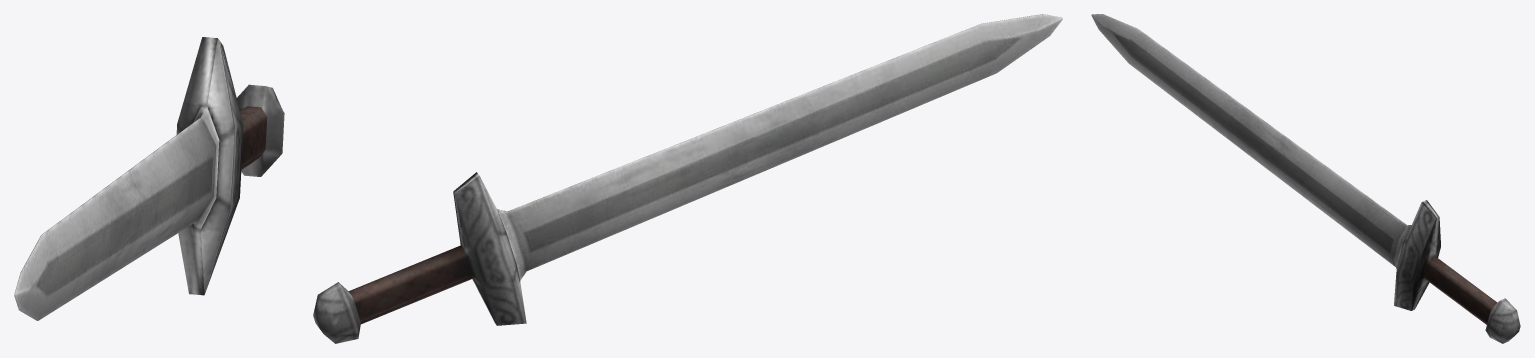
Rendered from rider-weapon-slice-copperweapons.glb.
The picture shows the model from 3 angles, left to right: view 1: azimuth 30°, elevation 25°; view 2: azimuth 150°, elevation 25°; view 3: azimuth 270°, elevation 25°; orthographic projection. The views are drawn at different scales.
Bounding box in the file's own units: 0.6458 × 0.3174 × 0.7014.
1 material, 1 textured.
